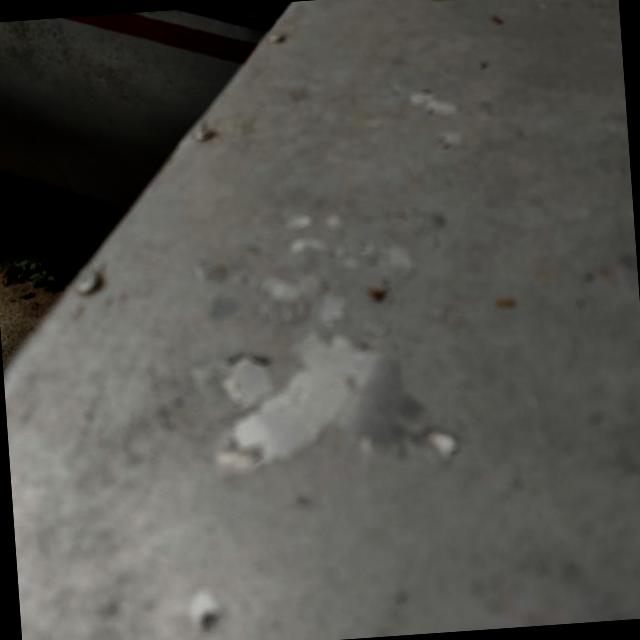paint-off: (164, 214, 476, 505)
